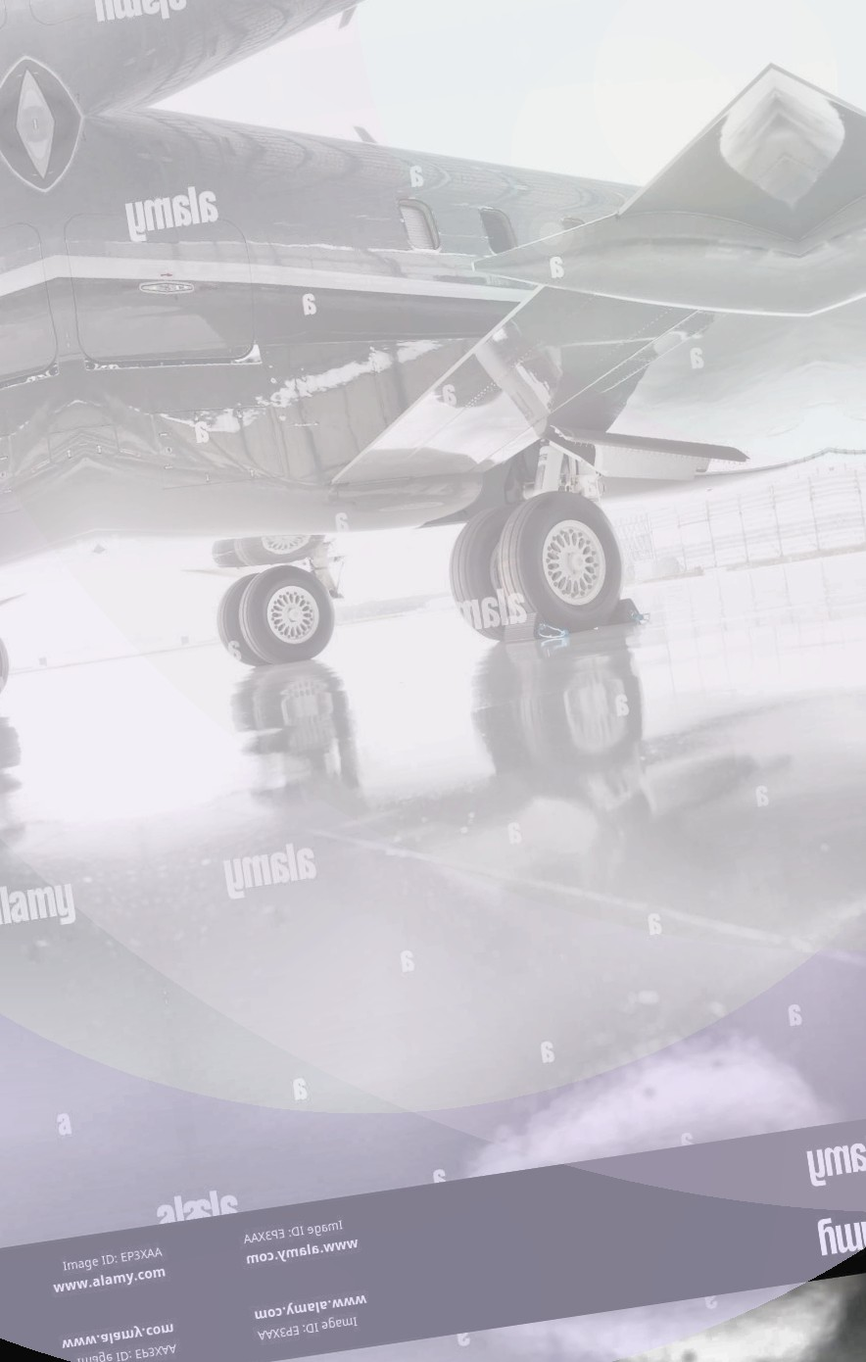chock: (494, 605, 566, 652), (585, 589, 647, 630)
wheel: (493, 482, 634, 638), (214, 558, 342, 672), (442, 505, 542, 646), (211, 571, 281, 668)
